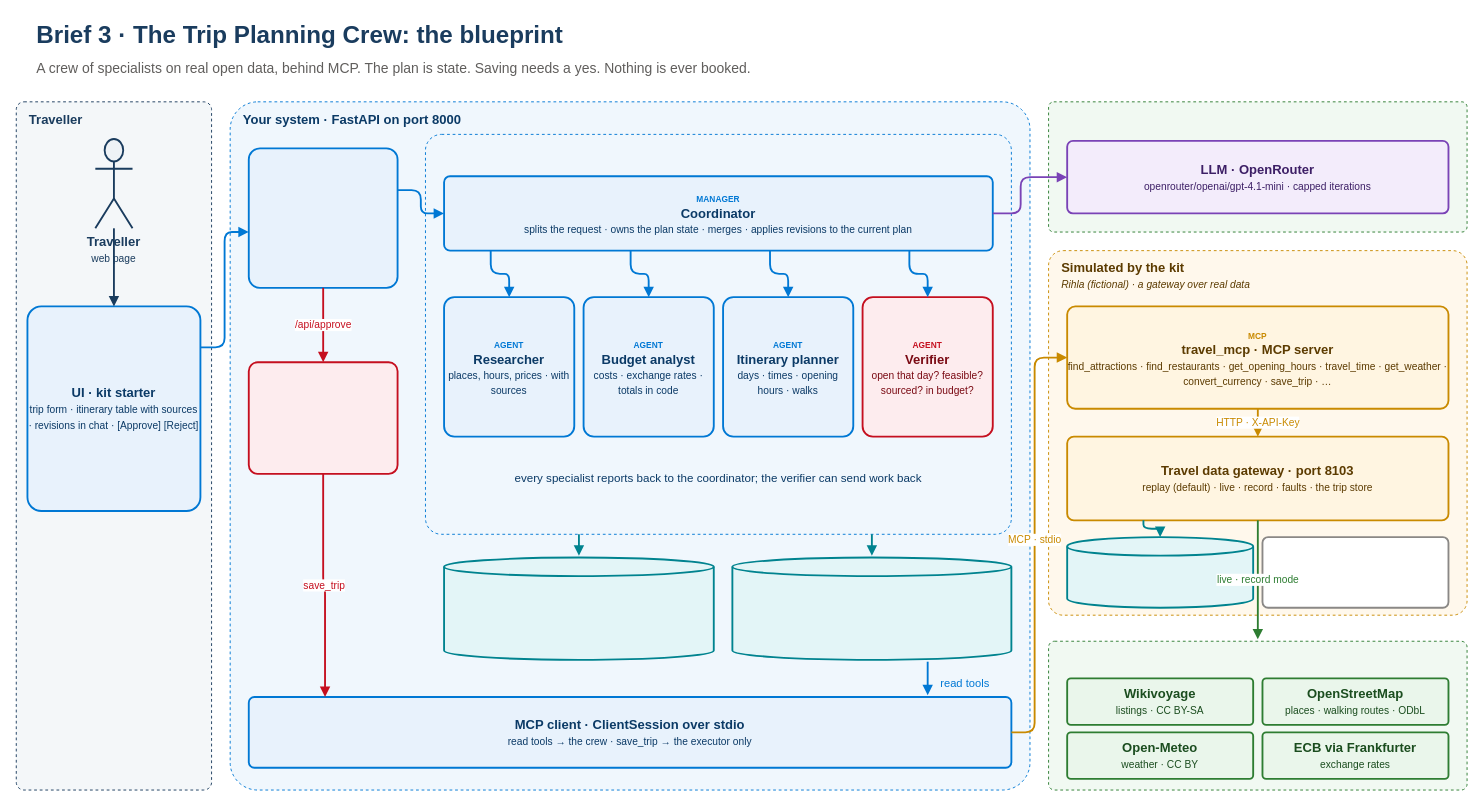
The diagram is 1483 pixels wide and 806 high, and some of its shapes have lost their labels. Each missing label, with the box of its shape:
API contract /api/chat · /api/approve · /health: (247, 147, 398, 288)
CODE Approval executor save_trip · Idempotency-Key: (247, 361, 398, 474)
Overlays · tests only a second price · planted text: (1261, 536, 1449, 608)
Plan state a Pydantic Itinerary per session · revisions edit it: (443, 556, 714, 660)
Real open data · live or recorded: (1048, 640, 1467, 790)
Real service: (1048, 101, 1467, 232)
Replay cache Istanbul · Amman: (1066, 536, 1254, 608)
The crew · CrewAI: (425, 133, 1011, 534)
Traveller memory via MCP: get_preferences · save_preferences · list_trips: (731, 556, 1012, 660)
